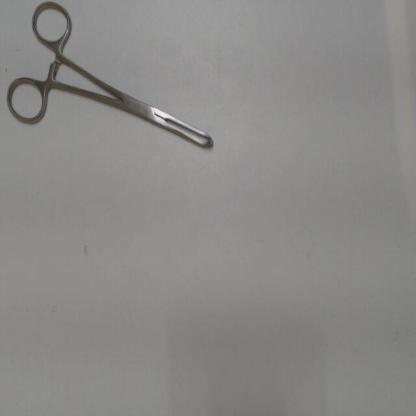Allis Tissue Forceps: (2, 1, 222, 158)
